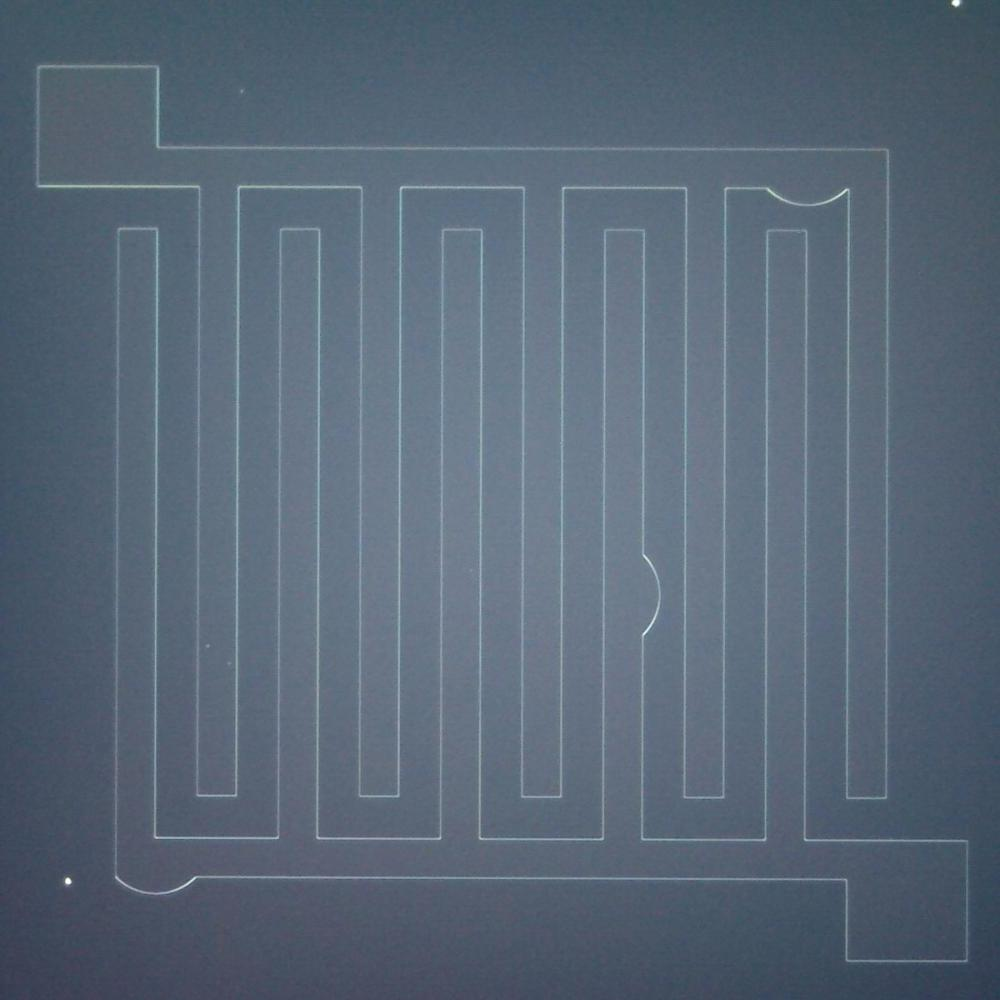curve circuit: (753, 168, 856, 214), (628, 530, 666, 644), (108, 863, 204, 904)
spot: (944, 0, 974, 19), (57, 870, 80, 893)
